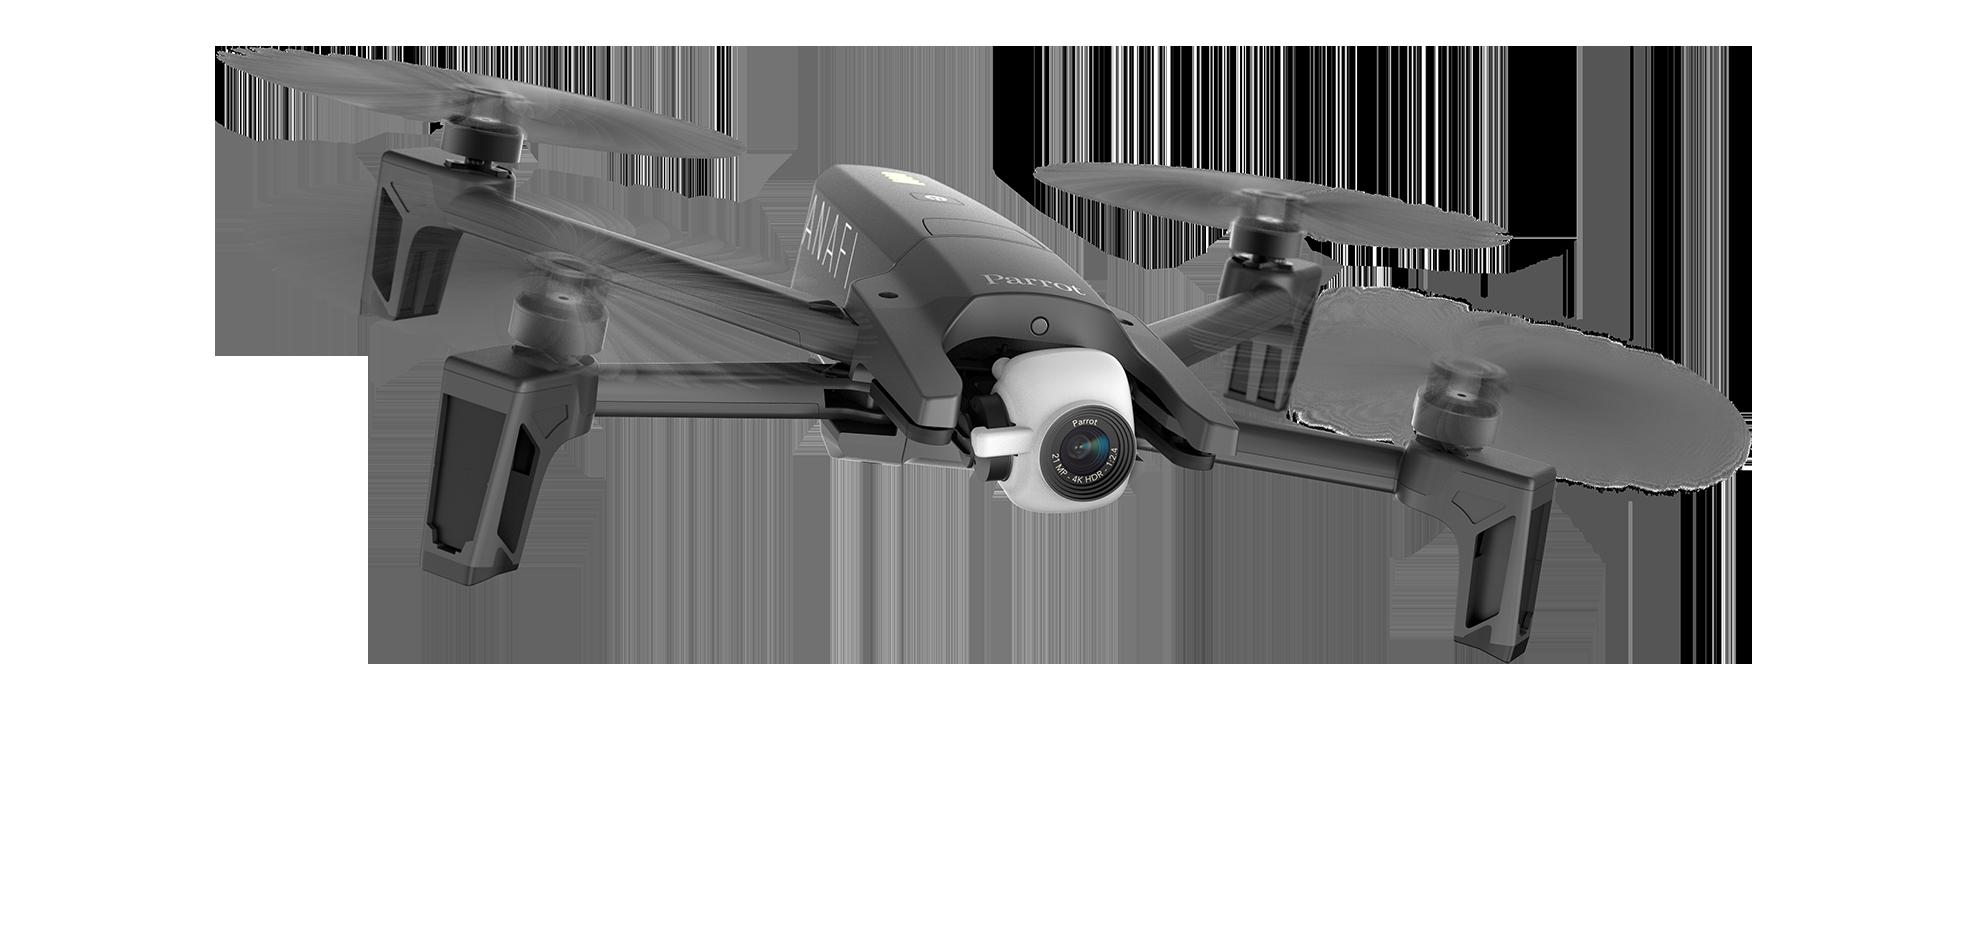drone: (238, 20, 1579, 666)
